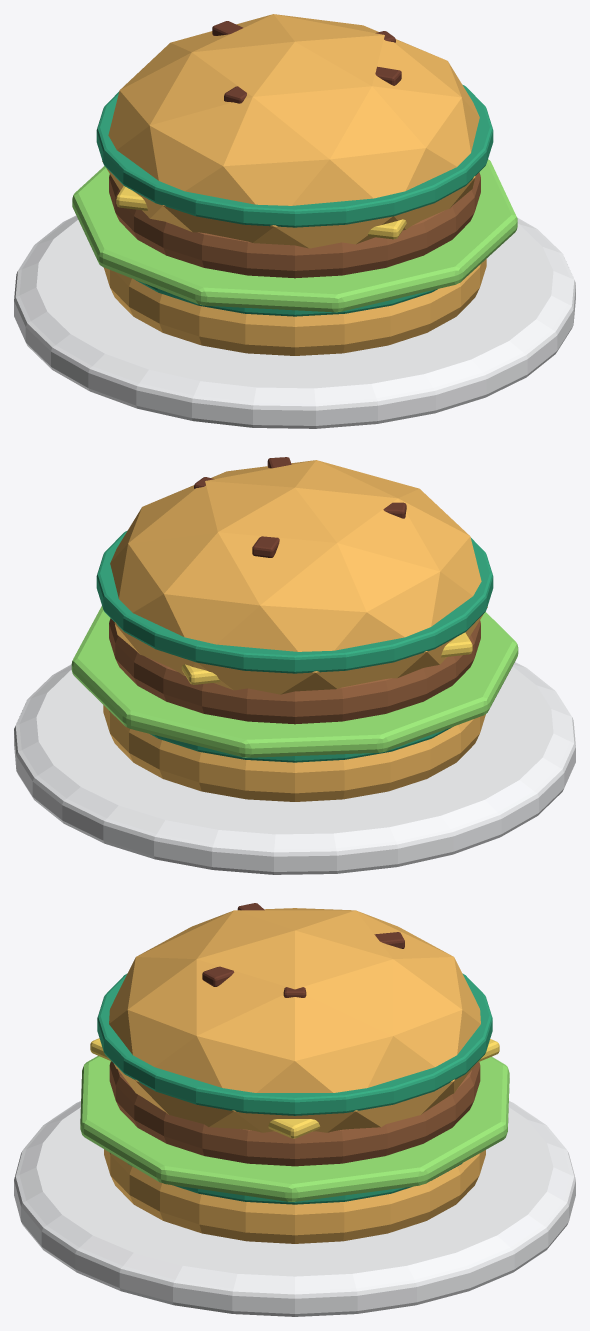
File: x_salada.glb
3 renders of one model, top to bottom at view 1: azimuth 30°, elevation 25°; view 2: azimuth 150°, elevation 25°; view 3: azimuth 270°, elevation 25°, orthographic.
Parts seen in each view (by area): view 1: Top bun, Plate rim, Lettuce, Plate, Bottom bun, Patty, Top RAM band, RAM band, Cheese; view 2: Top bun, Plate rim, Lettuce, Plate, Bottom bun, Patty, Top RAM band, RAM band, Cheese; view 3: Top bun, Plate rim, Lettuce, Plate, Bottom bun, Patty, Top RAM band, RAM band, Cheese.
Part boxes in pixels (bbox=[...]): Top bun: bbox=[102, 14, 479, 248]; Plate rim: bbox=[19, 216, 570, 403]; Lettuce: bbox=[72, 159, 517, 312]; Plate: bbox=[14, 215, 575, 428]; Bottom bun: bbox=[103, 259, 486, 355]; Patty: bbox=[109, 172, 480, 278]; Top RAM band: bbox=[96, 84, 493, 227]; RAM band: bbox=[136, 280, 437, 316]; Cheese: bbox=[116, 186, 406, 239]; Top bun: bbox=[110, 460, 487, 694]; Plate rim: bbox=[19, 663, 570, 849]; Lettuce: bbox=[71, 606, 518, 757]; Plate: bbox=[14, 662, 575, 874]; Bottom bun: bbox=[103, 705, 485, 801]; Patty: bbox=[109, 618, 480, 724]; Top RAM band: bbox=[96, 530, 493, 673]; RAM band: bbox=[150, 726, 453, 762]; Cheese: bbox=[181, 632, 472, 684]; Top bun: bbox=[109, 908, 480, 1132]; Plate rim: bbox=[19, 1102, 570, 1291]; Lettuce: bbox=[80, 1056, 509, 1201]; Plate: bbox=[14, 1101, 575, 1316]; Bottom bun: bbox=[104, 1149, 485, 1243]; Patty: bbox=[109, 1061, 480, 1166]; Top RAM band: bbox=[97, 973, 492, 1115]; RAM band: bbox=[128, 1163, 462, 1204]; Cheese: bbox=[90, 1038, 499, 1138].
Bounding box in the file's own units: 1 × 0.53 × 1.
